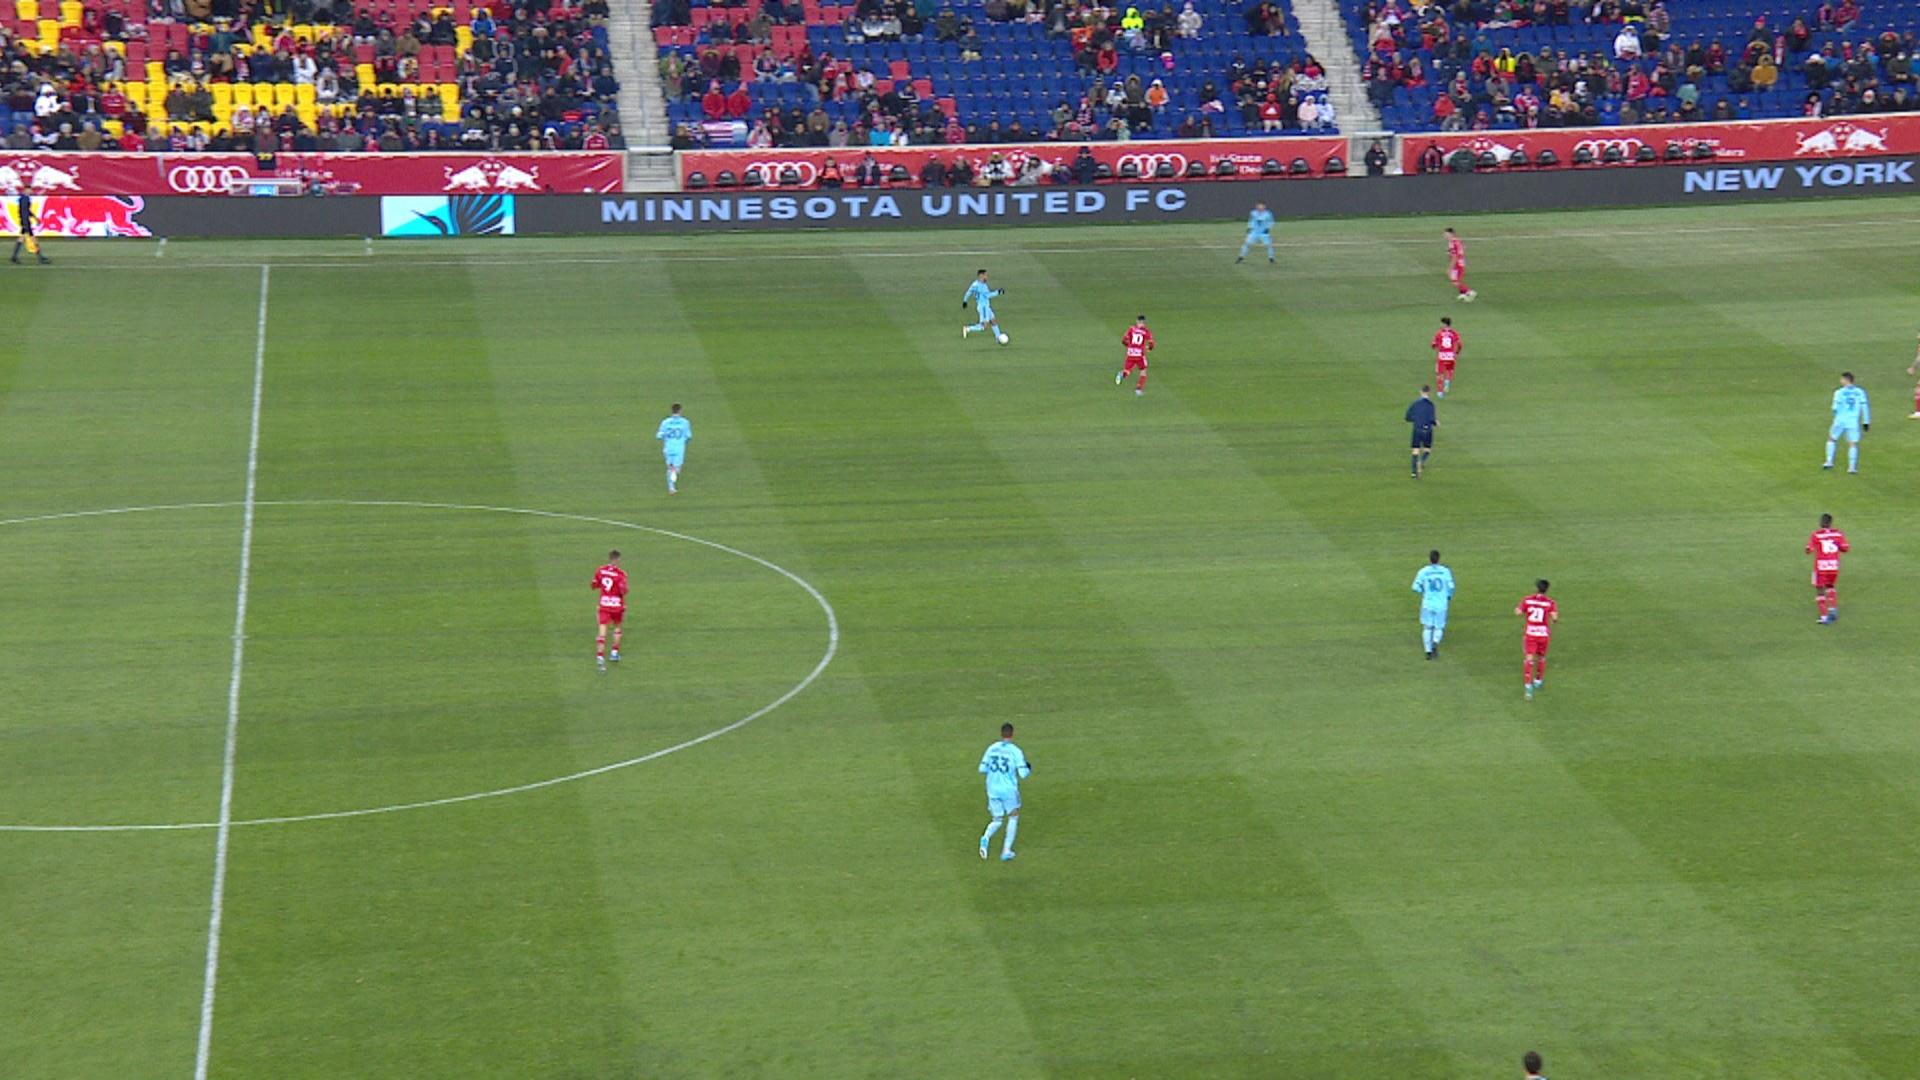football: (999, 333, 1010, 345)
